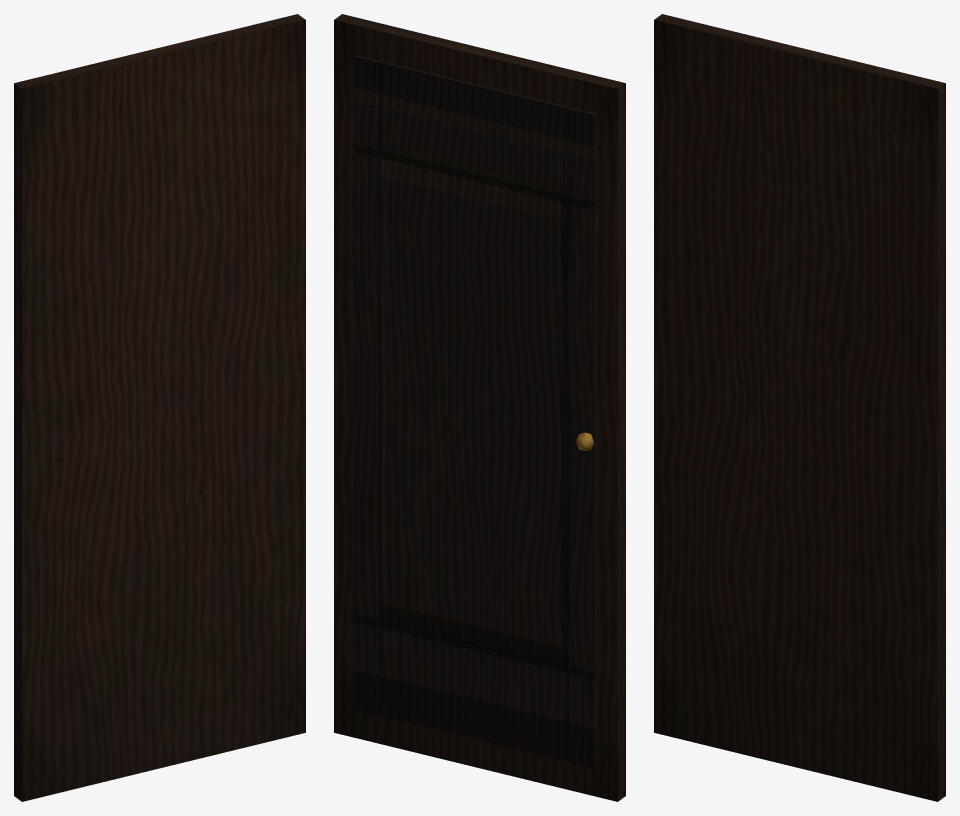
File: closet_door.glb
The picture shows the model from 3 angles, left to right: view 1: azimuth 30°, elevation 25°; view 2: azimuth 150°, elevation 25°; view 3: azimuth 330°, elevation 25°; orthographic projection.
Visible parts, largest first — view 1: closet_door; view 2: closet_door; view 3: closet_door.
Boxes of the visible parts, box(x1,y1,x2,y2) form: closet_door: box(14, 14, 305, 801); closet_door: box(334, 14, 625, 801); closet_door: box(654, 14, 945, 801).
Size of the model in its own units: 1 by 2.4 by 0.101.
3 materials, 3 textured.
